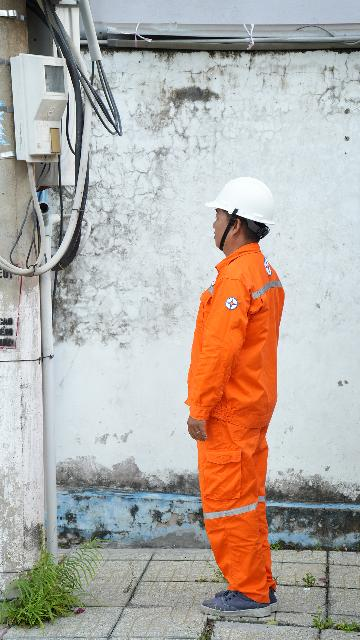helmet: (202, 166, 282, 234)
shoes: (212, 585, 286, 615), (201, 594, 270, 619)
